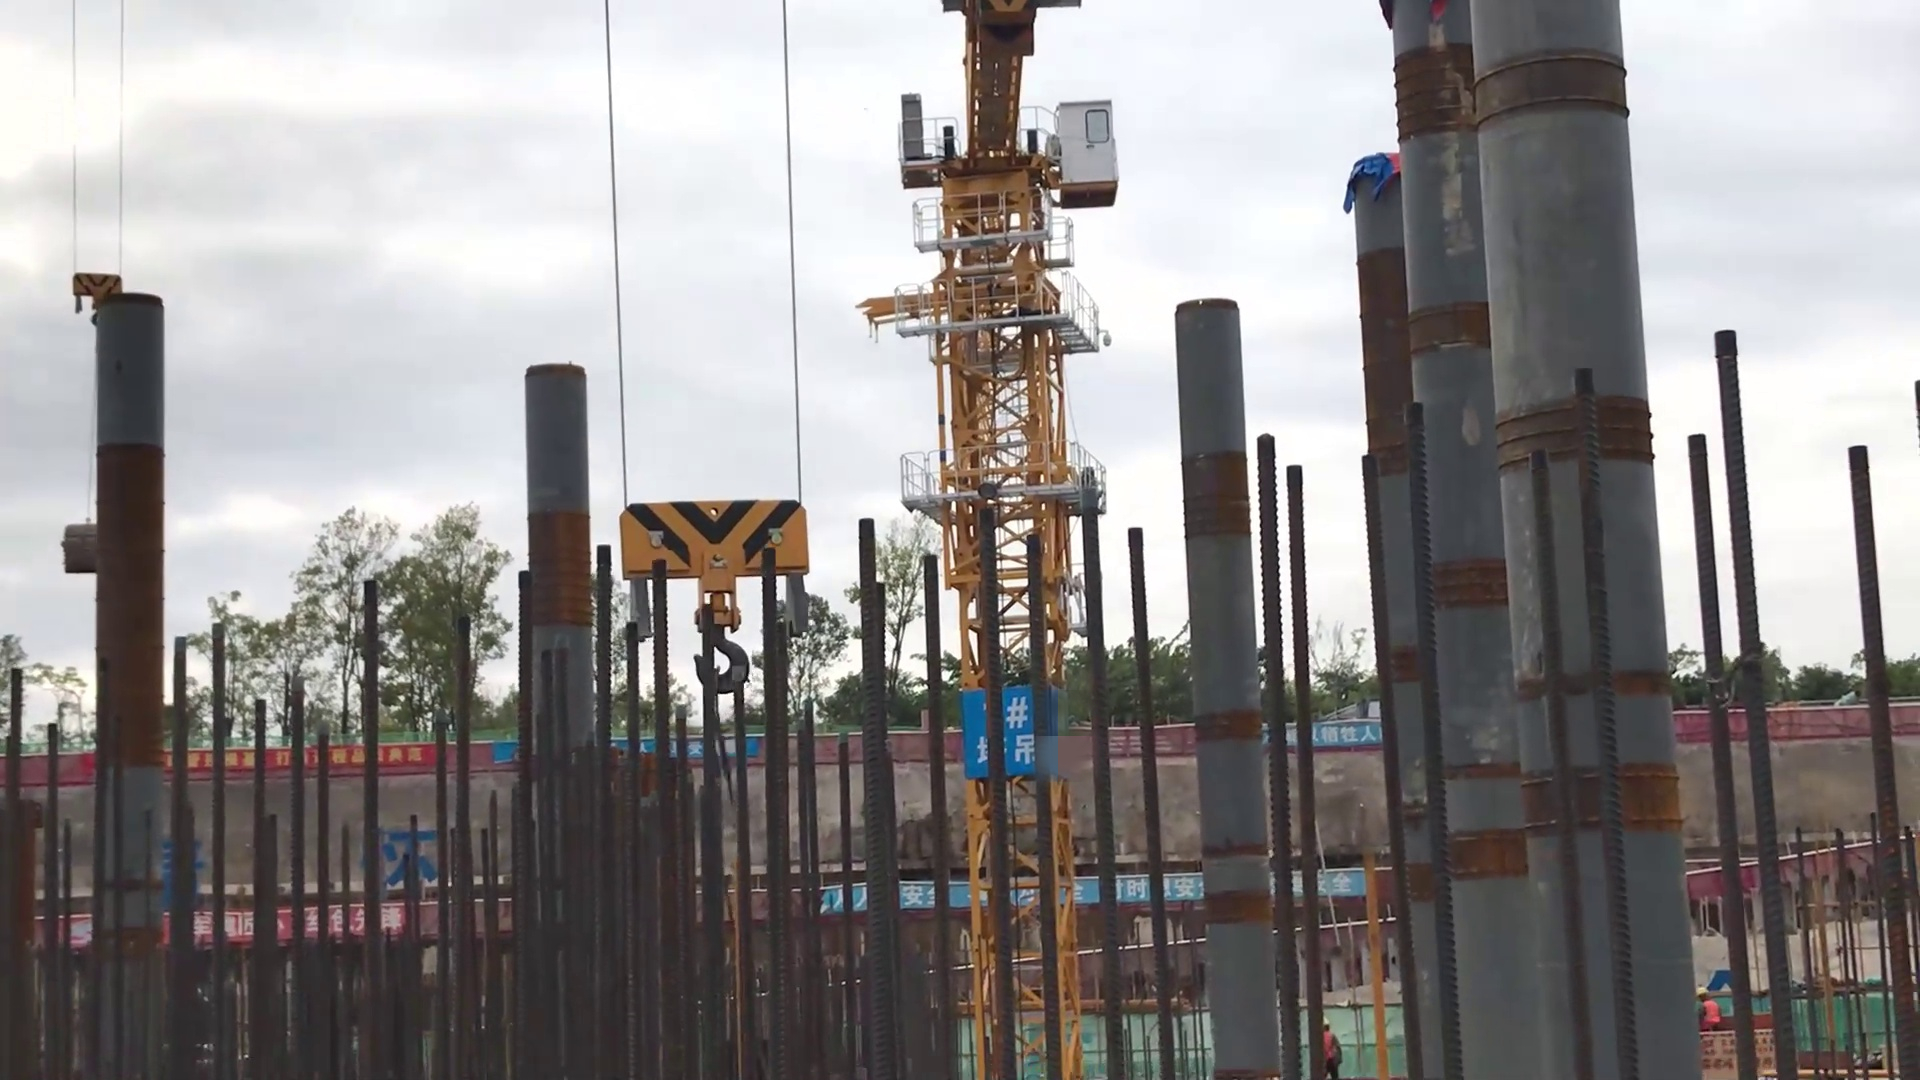hook: (609, 494, 818, 691)
person: (1311, 1007, 1346, 1080), (1696, 984, 1731, 1050)
